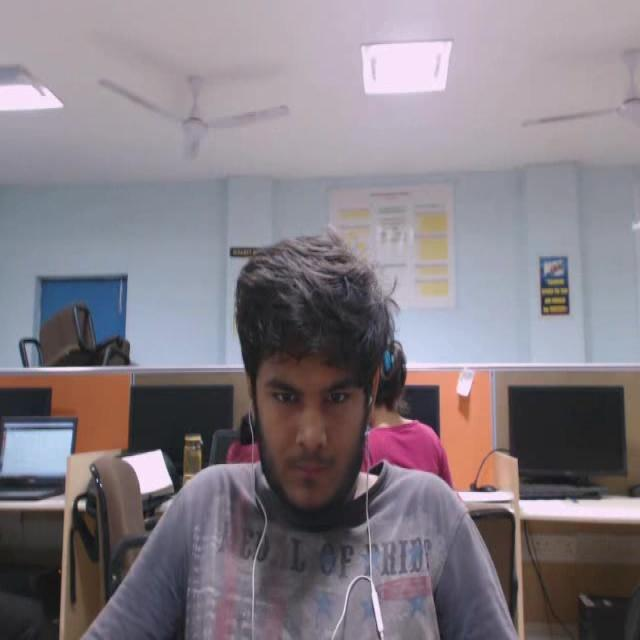Engaged: (204, 220, 432, 576)
